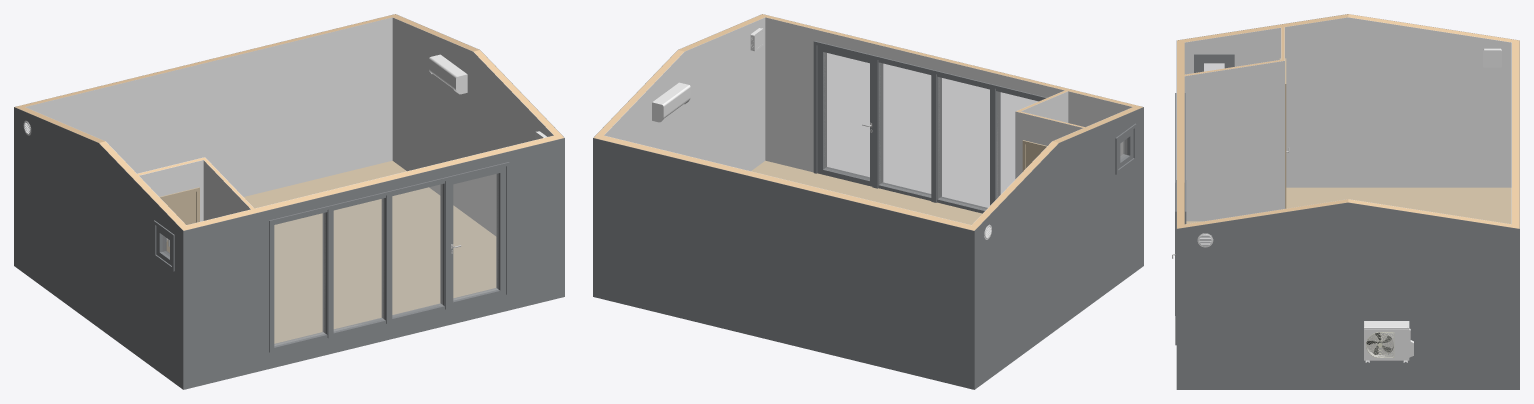
Rendered from medziosandelis.eu_(5,0 x 6,5)_R03.fbx.
3 renders of one model, left to right at view 1: azimuth 30°, elevation 25°; view 2: azimuth 150°, elevation 25°; view 3: azimuth 270°, elevation 25°, orthographic.
Parts seen in each view (by area): view 1: IfcWall/Part:2663462, IfcWall/Part:2663454, IfcWall/Part:2663460, IfcSlab/Part:2663543, IfcWall/Part:2663456, IfcWindow/Langai (Akrusta):1000x2100x120:2732892, IfcDoor/Durys išorinės:1000x2100x120 (dešininės):2732387, IfcWindow/Langai (Akrusta):1000x2100x120:2812137, IfcWindow/Langai (Akrusta):1000x2100x120:2727360, IfcWall/Part:2663455, IfcWall/Part:2663506, IfcWall/Part:2679602 (+6 smaller); view 2: IfcWall/Part:2663463, IfcWall/Part:2663460, IfcWall/Part:2663456, IfcWall/Part:2663453, IfcDoor/Durys išorinės:1000x2100x120 (dešininės):2732387, IfcWindow/Langai (Akrusta):1000x2100x120:2727360, IfcWindow/Langai (Akrusta):1000x2100x120:2812137, IfcSlab/Part:2663543, IfcWindow/Langai (Akrusta):1000x2100x120:2732892, IfcWall/Part:2663464, IfcWall/Part:2663507, IfcWall/Part:2663455 (+5 smaller); view 3: IfcWall/Part:2663457, IfcWall/Part:2663459, IfcWall/Part:2679603, IfcSlab/Part:2663543, IfcBuildingElementProxy/Toshiba_Air_Handling_Unit_-_Inverter, IfcWall/Part:2663455, IfcWall/Part:2663464, IfcWall/Part:2663458, IfcWall/Part:2663461, IfcWindow/Langai (Akrusta):500x500x120 (varstomas):2710636, IfcDoor/Durys išorinės:1000x2100x120 (dešininės):2732387, IfcBuildingElementProxy/HVAC_RMN_3TIPAI:Rekupas:2794165 (+3 smaller).
Boxes of the visible parts, x1=… form: IfcWall/Part:2663462: x1=25, y1=17, x2=392, y2=196; IfcWall/Part:2663454: x1=183, y1=138, x2=564, y2=389; IfcWall/Part:2663460: x1=14, y1=107, x2=183, y2=389; IfcSlab/Part:2663543: x1=244, y1=160, x2=496, y2=343; IfcWall/Part:2663456: x1=392, y1=17, x2=553, y2=235; IfcWindow/Langai (Akrusta):1000x2100x120:2732892: x1=269, y1=205, x2=333, y2=352; IfcDoor/Durys išorinės:1000x2100x120 (dešininės):2732387: x1=440, y1=162, x2=509, y2=309; IfcWindow/Langai (Akrusta):1000x2100x120:2812137: x1=322, y1=190, x2=392, y2=338; IfcWindow/Langai (Akrusta):1000x2100x120:2727360: x1=381, y1=176, x2=450, y2=323; IfcWall/Part:2663455: x1=180, y1=134, x2=563, y2=230; IfcWall/Part:2663506: x1=139, y1=160, x2=203, y2=221; IfcWall/Part:2679602: x1=203, y1=160, x2=250, y2=220; IfcWall/Part:2663463: x1=593, y1=138, x2=974, y2=389; IfcWall/Part:2663460: x1=974, y1=107, x2=1143, y2=389; IfcWall/Part:2663456: x1=604, y1=17, x2=765, y2=171; IfcWall/Part:2663453: x1=765, y1=17, x2=1132, y2=172; IfcDoor/Durys išorinės:1000x2100x120 (dešininės):2732387: x1=813, y1=41, x2=883, y2=188; IfcWindow/Langai (Akrusta):1000x2100x120:2727360: x1=872, y1=55, x2=941, y2=202; IfcWindow/Langai (Akrusta):1000x2100x120:2812137: x1=931, y1=70, x2=1000, y2=213; IfcSlab/Part:2663543: x1=751, y1=160, x2=981, y2=224; IfcWindow/Langai (Akrusta):1000x2100x120:2732892: x1=990, y1=84, x2=1046, y2=205; IfcWall/Part:2663464: x1=594, y1=134, x2=977, y2=230; IfcWall/Part:2663507: x1=1015, y1=111, x2=1082, y2=178; IfcWall/Part:2663455: x1=759, y1=14, x2=1142, y2=108; IfcWall/Part:2663457: x1=1177, y1=202, x2=1519, y2=389; IfcWall/Part:2663459: x1=1184, y1=17, x2=1511, y2=187; IfcWall/Part:2679603: x1=1184, y1=61, x2=1284, y2=221; IfcSlab/Part:2663543: x1=1186, y1=187, x2=1511, y2=224; IfcBuildingElementProxy/Toshiba_Air_Handling_Unit_-_Inverter: x1=1364, y1=321, x2=1413, y2=362; IfcWall/Part:2663455: x1=1177, y1=39, x2=1184, y2=228; IfcWall/Part:2663464: x1=1512, y1=39, x2=1519, y2=228; IfcWall/Part:2663458: x1=1184, y1=199, x2=1511, y2=227; IfcWall/Part:2663461: x1=1184, y1=14, x2=1511, y2=42; IfcWindow/Langai (Akrusta):500x500x120 (varstomas):2710636: x1=1194, y1=54, x2=1234, y2=72; IfcDoor/Durys išorinės:1000x2100x120 (dešininės):2732387: x1=1175, y1=180, x2=1186, y2=345; IfcBuildingElementProxy/HVAC_RMN_3TIPAI:Rekupas:2794165: x1=1483, y1=48, x2=1501, y2=67.
Bounding box in the file's own units: 682 × 301 × 507.
